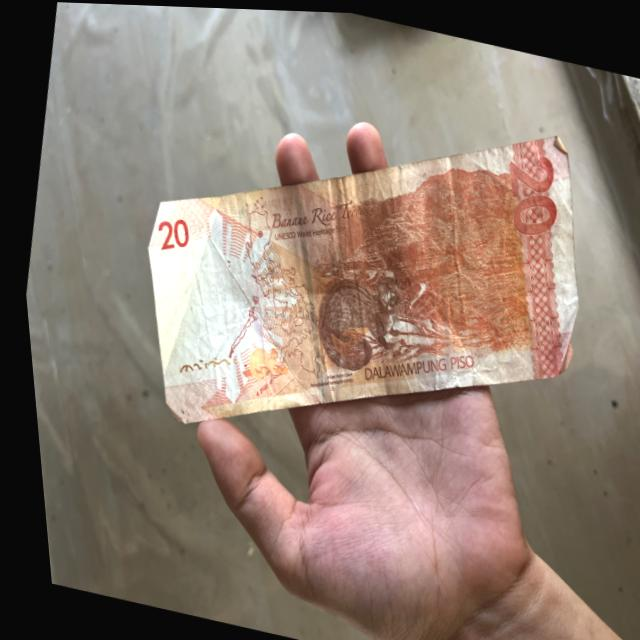20_civet: (297, 268, 419, 383)
20_civet_watermark: (228, 336, 285, 388)
